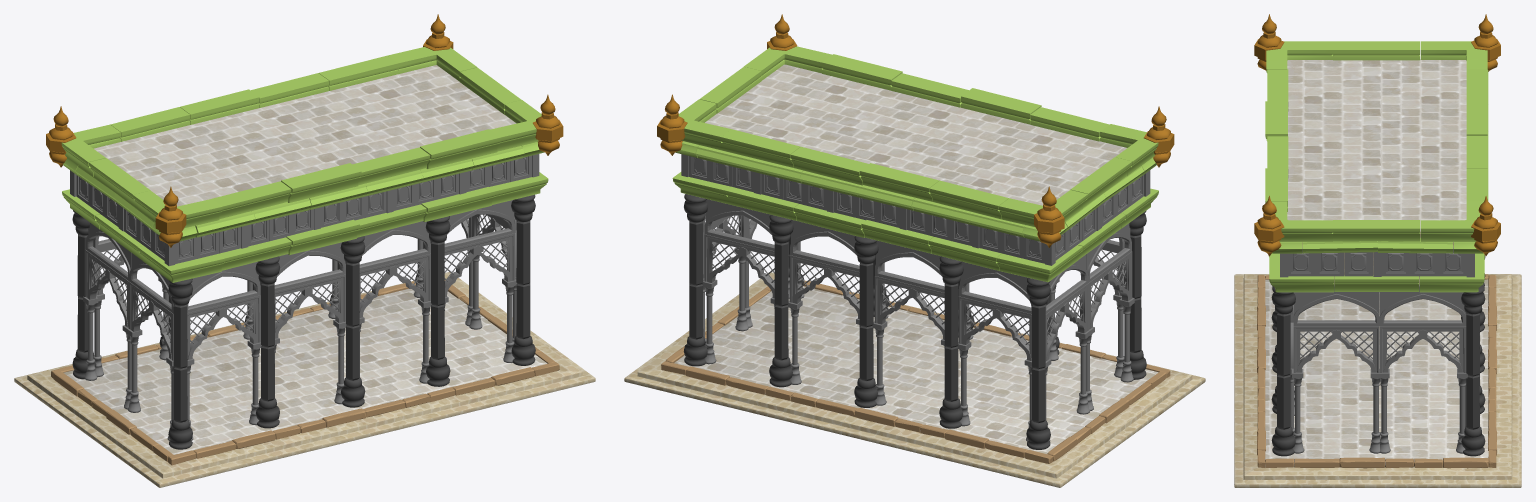
Rendered from SM_palace_02.fbx.
The picture shows the model from 3 angles, left to right: view 1: azimuth 30°, elevation 25°; view 2: azimuth 150°, elevation 25°; view 3: azimuth 270°, elevation 25°; orthographic projection.
Parts seen in each view (by area): view 1: Box570; view 2: Box570; view 3: Box570.
Part boxes in pixels (x1,y1,x2,y2): Box570: [14, 14, 595, 487]; Box570: [624, 14, 1205, 487]; Box570: [1234, 14, 1521, 487].
Size of the model in its own units: 540 by 333 by 312.
